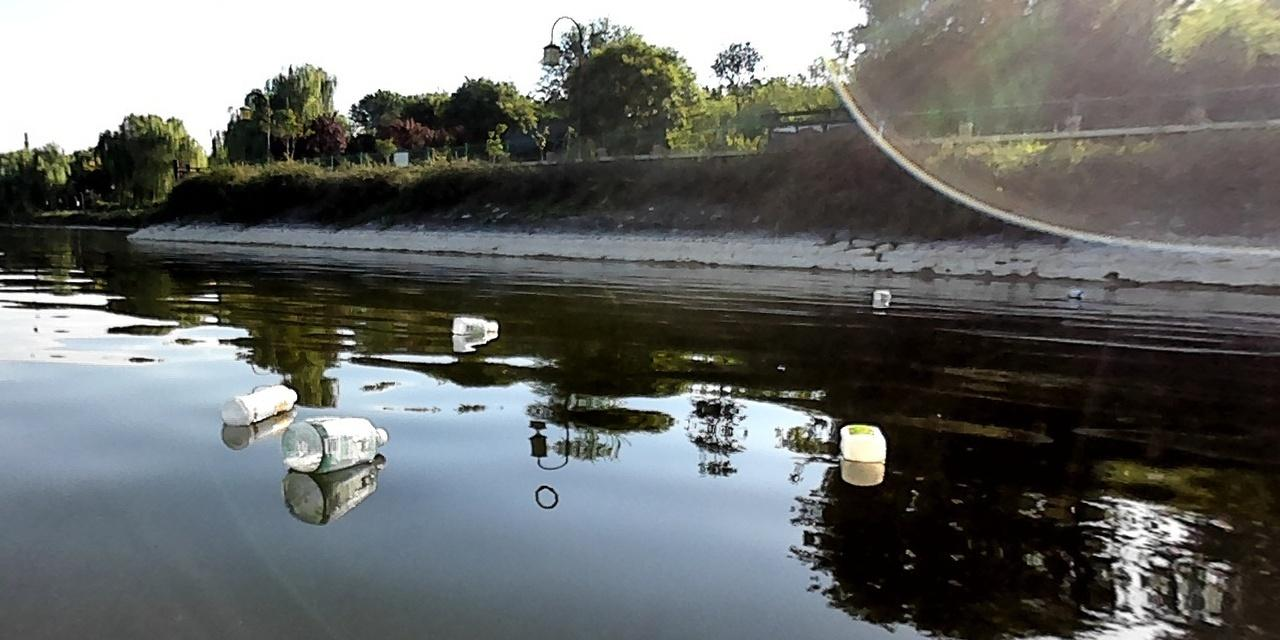bottle: (279, 410, 390, 474), (216, 382, 303, 429), (835, 417, 890, 466), (447, 310, 500, 338), (870, 285, 893, 300), (1062, 286, 1084, 301)
